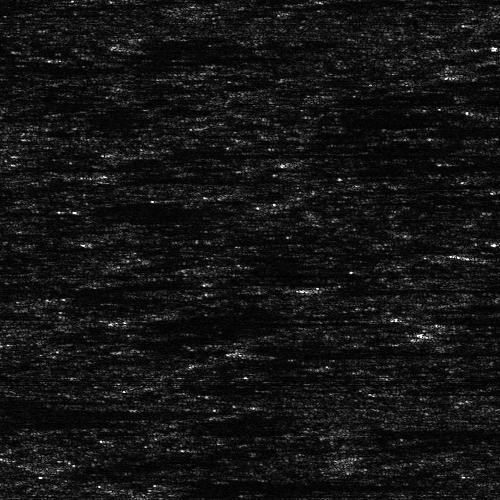object: (320, 327, 500, 340), (210, 342, 293, 363), (58, 310, 151, 327), (118, 143, 201, 158), (0, 407, 64, 424), (421, 248, 500, 261), (270, 284, 363, 293), (79, 170, 142, 181), (383, 315, 456, 324), (0, 415, 31, 432), (306, 428, 369, 435), (42, 54, 125, 59), (133, 481, 174, 488), (470, 41, 500, 50), (470, 238, 500, 247), (84, 205, 115, 212), (479, 184, 500, 191), (132, 39, 143, 46)
shadow: (160, 143, 479, 158), (105, 310, 339, 327), (0, 397, 143, 422), (252, 342, 413, 363), (0, 407, 148, 424), (0, 415, 113, 432), (110, 170, 267, 181), (316, 284, 500, 293), (154, 481, 386, 488), (338, 428, 499, 435), (414, 327, 500, 340), (138, 39, 297, 46), (99, 205, 255, 212), (83, 54, 241, 59), (420, 315, 500, 324), (0, 111, 43, 122), (0, 395, 80, 400)
